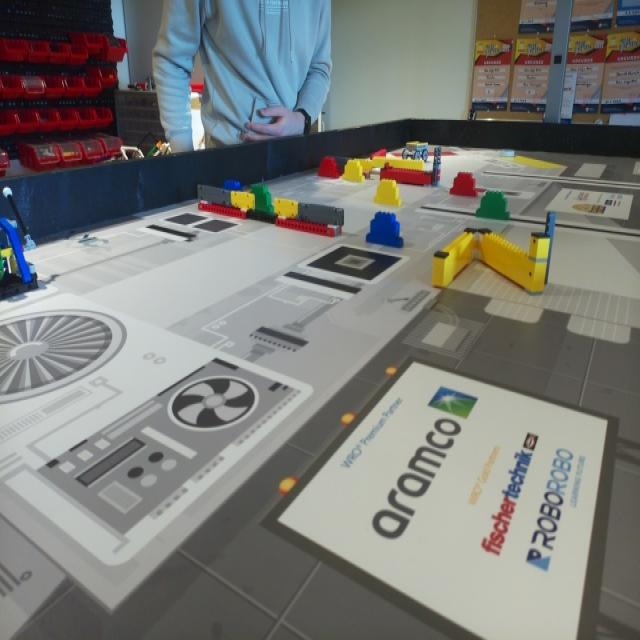blau: (368, 214, 403, 249), (226, 181, 240, 191)
gruen: (477, 190, 510, 222), (253, 187, 273, 214)
rot: (452, 172, 477, 196), (318, 158, 337, 178)
yellow: (372, 181, 402, 205), (344, 161, 364, 182)
